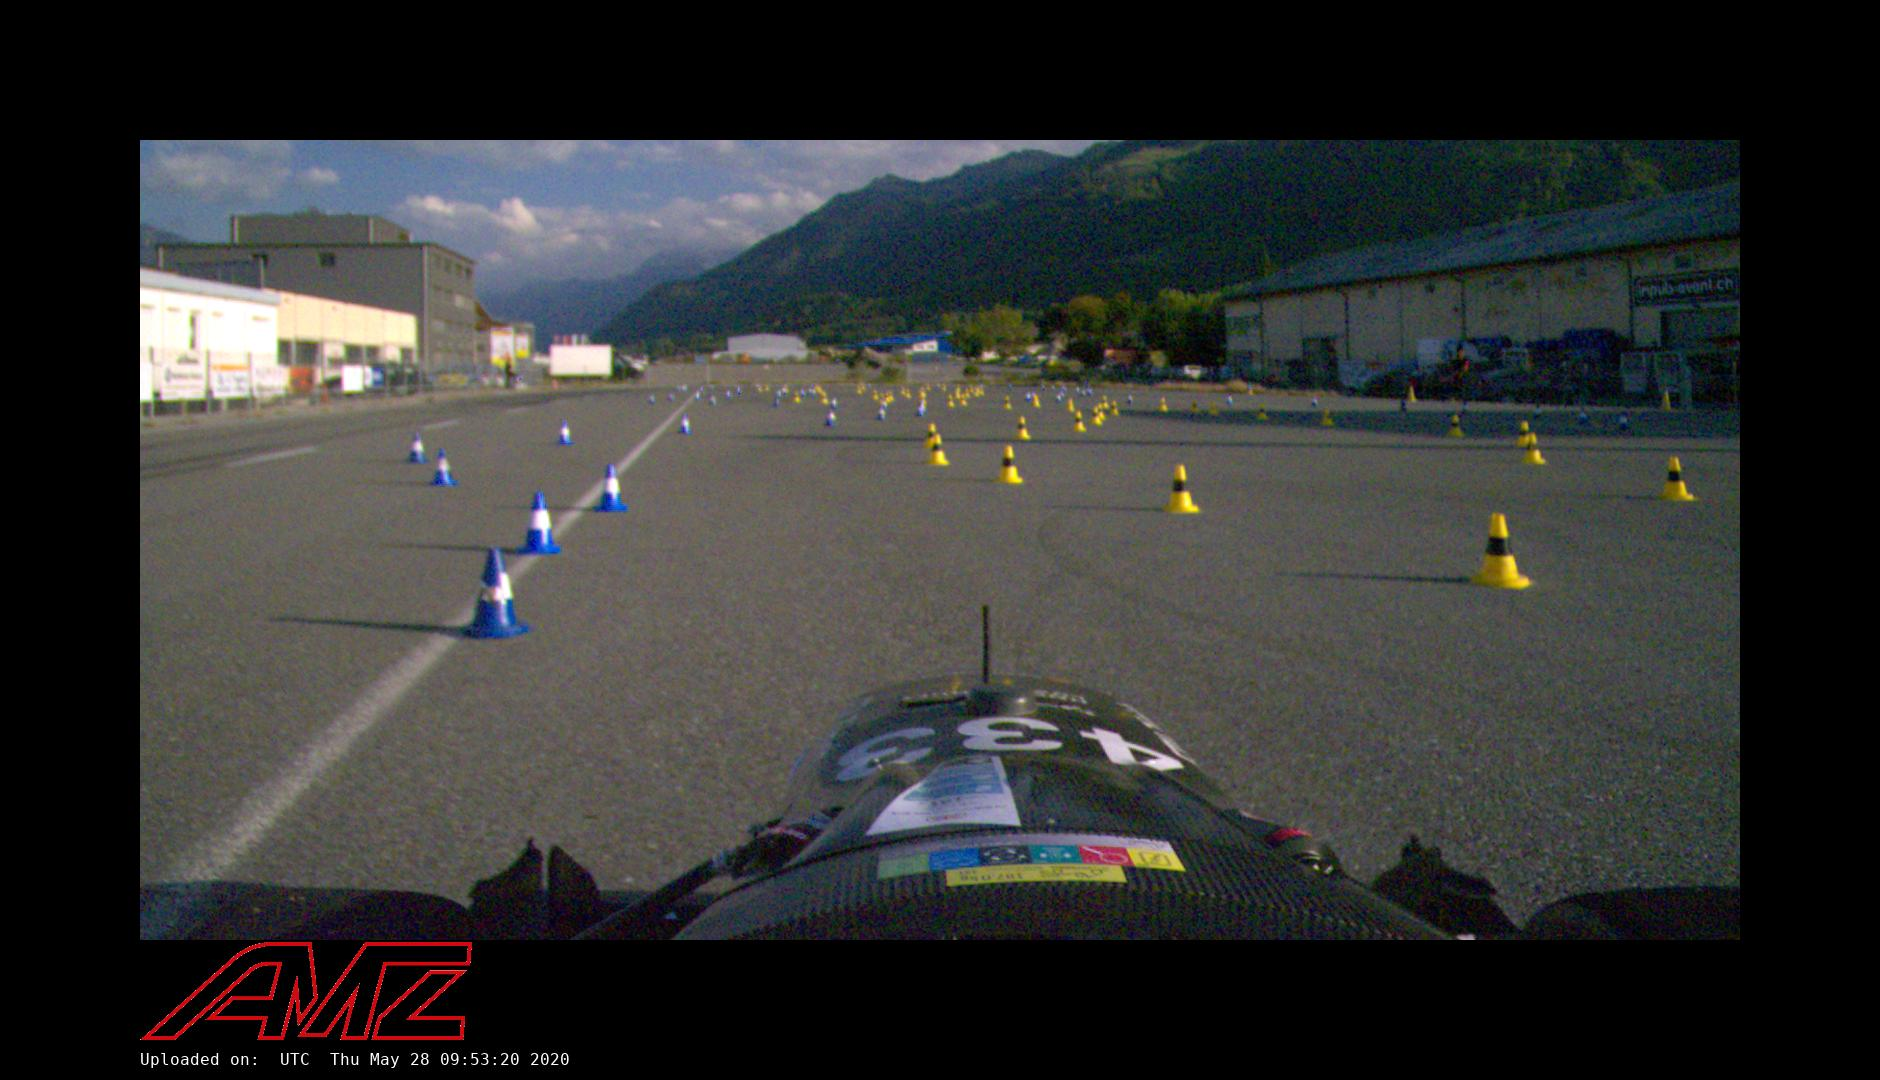blue_cone: (460, 547, 530, 640), (519, 492, 563, 556), (592, 464, 627, 513), (427, 448, 459, 486), (405, 433, 430, 464), (557, 421, 573, 445), (676, 414, 693, 435), (824, 409, 836, 428), (1397, 398, 1410, 415), (876, 405, 887, 422), (1224, 392, 1236, 407), (828, 397, 839, 410), (1308, 396, 1319, 408), (915, 403, 924, 417), (647, 394, 656, 405), (772, 397, 781, 408), (1125, 394, 1134, 405), (880, 397, 888, 408), (667, 392, 675, 402), (798, 388, 806, 398), (1025, 392, 1032, 403), (725, 390, 733, 399), (693, 390, 700, 400), (709, 395, 716, 405), (807, 386, 814, 395), (1061, 385, 1068, 393), (1056, 394, 1062, 403), (1059, 391, 1065, 400), (1031, 391, 1037, 399), (1088, 390, 1093, 397), (1081, 390, 1085, 397), (1076, 386, 1080, 393), (1009, 384, 1013, 391), (1042, 385, 1046, 391), (1052, 385, 1056, 391)
yellow_cone: (1465, 512, 1532, 590), (1654, 457, 1698, 502), (1161, 465, 1199, 513), (995, 446, 1023, 483), (1519, 433, 1546, 466), (925, 434, 949, 467), (1515, 421, 1538, 448), (924, 424, 943, 450), (1445, 415, 1464, 438), (1013, 417, 1031, 441), (1070, 411, 1086, 432), (1318, 409, 1333, 427), (1404, 386, 1419, 404), (1090, 407, 1103, 426), (1108, 401, 1121, 417), (1256, 405, 1269, 420), (1094, 404, 1106, 420), (1189, 398, 1200, 415), (1207, 399, 1218, 415), (1065, 398, 1077, 412), (1158, 397, 1168, 412), (1100, 395, 1110, 410), (1002, 396, 1012, 410), (820, 392, 830, 405), (1032, 394, 1041, 408), (792, 391, 801, 403), (946, 395, 955, 407), (959, 394, 967, 406), (814, 385, 823, 394), (904, 389, 912, 399), (963, 389, 971, 399), (919, 387, 926, 398), (871, 390, 879, 399), (978, 387, 986, 396), (855, 386, 862, 395), (887, 392, 894, 401), (884, 394, 891, 403), (899, 386, 906, 395), (954, 390, 961, 399), (968, 385, 975, 394), (941, 384, 948, 392), (974, 388, 980, 397), (955, 385, 962, 392), (860, 383, 866, 391)
